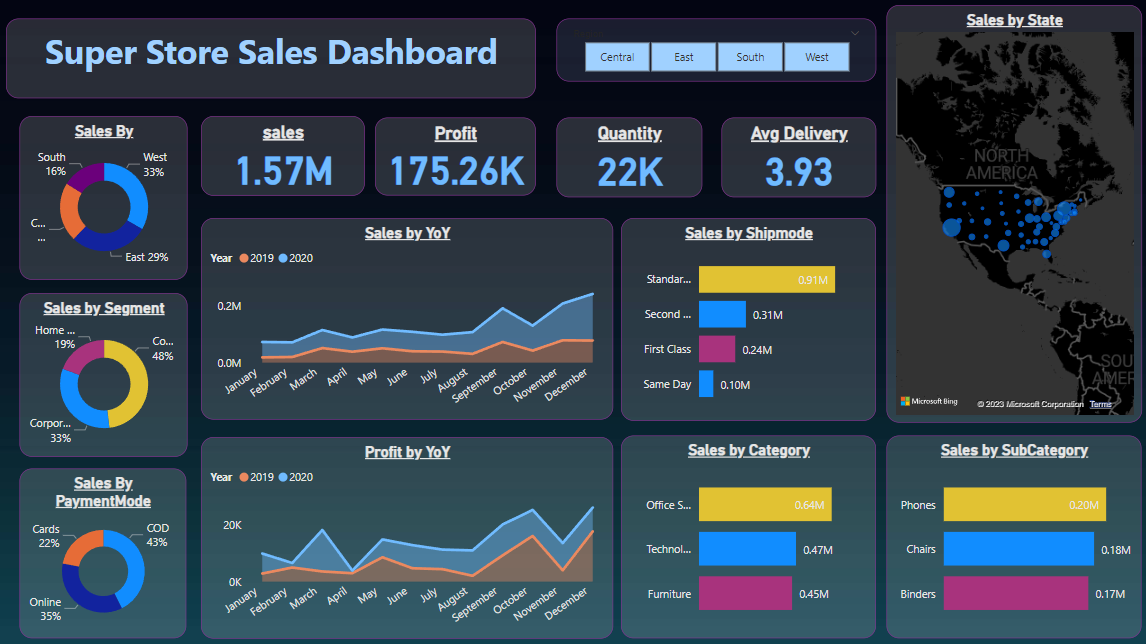

Layout of this report page (visuals, bound fields, positions):
{"tool":"powerbi","page":{"name":"Page 1","canvas":[1280,720],"ordinal":0},"visuals":[{"type":"clusteredBarChart","title":"Sales by Category","fields":{"Category":["SuperStore_Sales_Dataset.Category"],"Y":["Sum(SuperStore_Sales_Dataset.Sales)"]},"box":[988.3,10,283.3,225],"z":0},{"type":"clusteredBarChart","title":"Sales by SubCategory","fields":{"Category":["SuperStore_Sales_Dataset.Sub-Category"],"Y":["Sum(SuperStore_Sales_Dataset.Sales)"]},"box":[988.3,483.3,283.3,225],"z":1000},{"type":"clusteredBarChart","title":"Sales by Shipmode","fields":{"Category":["SuperStore_Sales_Dataset.Ship Mode"],"Y":["Sum(SuperStore_Sales_Dataset.Sales)"]},"box":[988.3,246.7,283.3,225],"z":2000},{"type":"stackedAreaChart","title":"Sales by YoY","fields":{"Category":["SuperStore_Sales_Dataset.Order Date.Variation.Date Hierarchy.Month","SuperStore_Sales_Dataset.Order Date.Variation.Date Hierarchy.Day"],"Y":["Sum(SuperStore_Sales_Dataset.Sales)"],"Series":["SuperStore_Sales_Dataset.Order Date.Variation.Date Hierarchy.Year"]},"box":[10.6,484.5,467.9,225.6],"z":3000},{"type":"stackedAreaChart","title":"Profit by YoY","fields":{"Category":["SuperStore_Sales_Dataset.Order Date.Variation.Date Hierarchy.Month","SuperStore_Sales_Dataset.Order Date.Variation.Date Hierarchy.Day"],"Series":["SuperStore_Sales_Dataset.Order Date.Variation.Date Hierarchy.Year"],"Y":["Sum(SuperStore_Sales_Dataset.Profit)"]},"box":[489.1,484.5,487.6,224.1],"z":4000},{"type":"map","title":"Sales by State","fields":{"Category":["SuperStore_Sales_Dataset.State"],"Size":["Sum(SuperStore_Sales_Dataset.Sales)"]},"box":[10,216.7,370,255],"z":5000},{"type":"donutChart","title":"Sales by Segment","fields":{"Category":["SuperStore_Sales_Dataset.Segment"],"Y":["Sum(SuperStore_Sales_Dataset.Sales)"]},"box":[588.3,216.7,186.7,255],"z":6000},{"type":"donutChart","title":"Sales By PaymentMode","fields":{"Category":["SuperStore_Sales_Dataset.Payment Mode"],"Y":["Sum(SuperStore_Sales_Dataset.Sales)"]},"box":[385,216.7,185,255],"z":7000},{"type":"textbox","box":[385,10,591.7,125],"z":8000},{"type":"slicer","fields":{"Values":["SuperStore_Sales_Dataset.Region"]},"box":[433.3,150,495,53.3],"z":9000},{"type":"card","title":"sales","fields":{"Values":["Sum(SuperStore_Sales_Dataset.Sales)"]},"box":[10,15,163.3,88.3],"z":10000},{"type":"card","title":"Quantity","fields":{"Values":["Sum(SuperStore_Sales_Dataset.Quantity)"]},"box":[195,16.7,163.3,88.3],"z":11000},{"type":"card","title":"Profit","fields":{"Values":["Sum(SuperStore_Sales_Dataset.Profit)"]},"box":[10,116.7,163.3,86.7],"z":12000},{"type":"card","title":"Avg Delivery","fields":{"Values":["Avg(SuperStore_Sales_Dataset.AvgDelivery)"]},"box":[195,116.7,163.3,88.3],"z":13000},{"type":"donutChart","title":"Sales By ","fields":{"Category":["SuperStore_Sales_Dataset.Region"],"Y":["Sum(SuperStore_Sales_Dataset.Sales)"]},"box":[790,216.7,186.7,255],"z":14000}]}

Visuals, with their boxes in screenshot pixels (x1, y1, x2, y2), scaled from the page's 1280x720 canvas onto the 1146x644 screenshot:
"Sales by Category" clusteredBarChart: box(885, 9, 1138, 210)
"Sales by SubCategory" clusteredBarChart: box(885, 432, 1138, 634)
"Sales by Shipmode" clusteredBarChart: box(885, 221, 1138, 422)
"Sales by YoY" stackedAreaChart: box(9, 433, 428, 635)
"Profit by YoY" stackedAreaChart: box(438, 433, 874, 634)
"Sales by State" map: box(9, 194, 340, 422)
"Sales by Segment" donutChart: box(527, 194, 694, 422)
"Sales By PaymentMode" donutChart: box(345, 194, 510, 422)
textbox: box(345, 9, 874, 121)
slicer - SuperStore_Sales_Dataset.Region: box(388, 134, 831, 182)
"sales" card: box(9, 13, 155, 92)
"Quantity" card: box(175, 15, 321, 94)
"Profit" card: box(9, 104, 155, 182)
"Avg Delivery" card: box(175, 104, 321, 183)
"Sales By " donutChart: box(707, 194, 874, 422)
